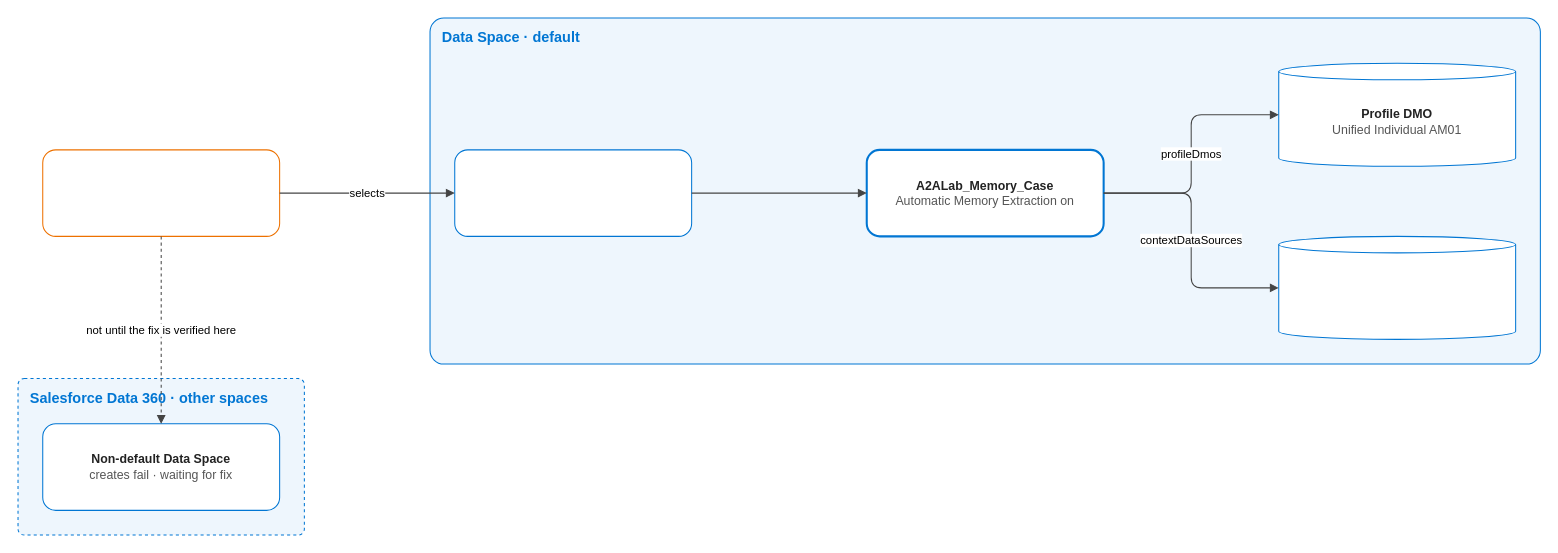
This 1558x553 diagram has some shape labels left out. The centre of each missing label's shape, as x and y in pixels:
Agentic setup default · ACTIVE: point (573, 192)
Face deployment setting memory Data Space = default: point (161, 192)
Real-time data graph AM01 → Individual → POS orders + email: point (1397, 287)
